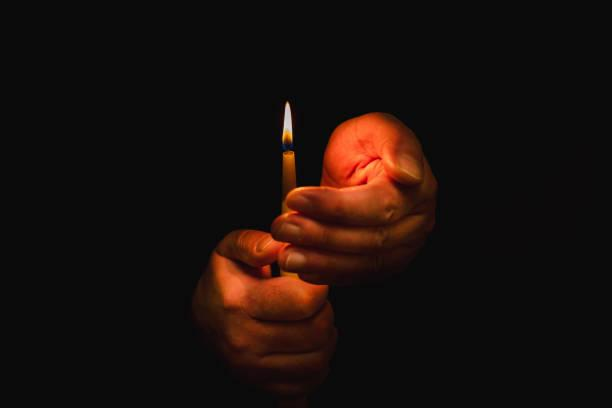Fire: (277, 98, 296, 151)
